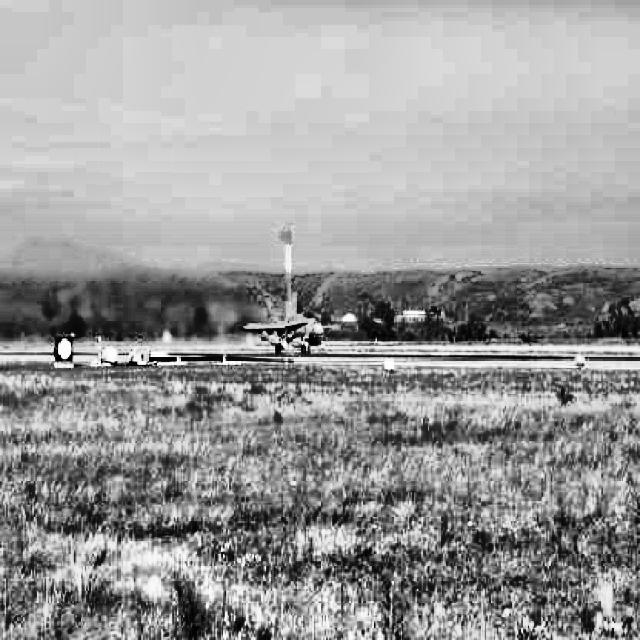F18: (239, 292, 343, 353)
